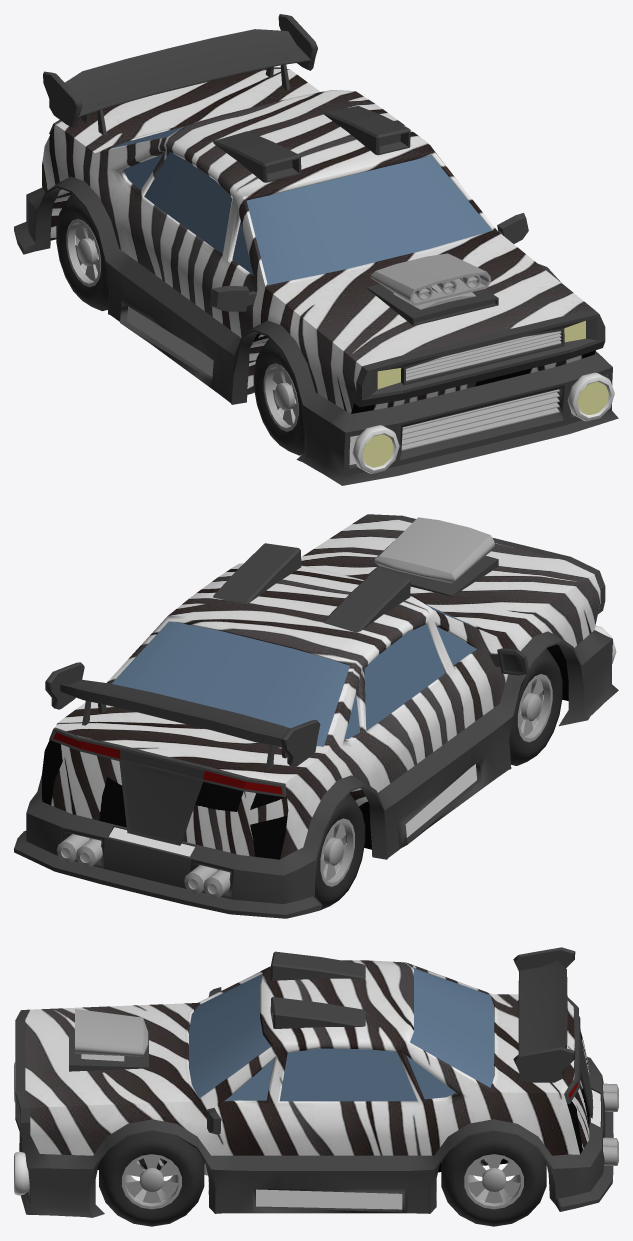
Rendered from muscle_zebra.glb.
3 renders of one model, top to bottom at view 1: azimuth 30°, elevation 25°; view 2: azimuth 150°, elevation 25°; view 3: azimuth 270°, elevation 25°, orthographic. The views are drawn at different scales.
Parts seen in each view (by area): view 1: body:PIV, sill4:PIV, frontGlass:PIV, Spoiler4:PIV, frontBlockGrid:PIV, glasseBigR:PIV, engine:PIV, front_down_grid:PIV, airtrap_r:PIV, airtrap_l:PIV, front_up_grid:PIV, tire_rf:PIV (+12 smaller); view 2: body:PIV, sill4:PIV, BackGlassGlass:PIV, Spoiler4:PIV, blockBackLights:PIV, engine:PIV, glasseBigR:PIV, airtrap_r:PIV, airtrap_l:PIV, tire_rf2:PIV, tire_rf:PIV, rim_A_rf:PIV (+10 smaller); view 3: body:PIV, sill4:PIV, BackGlassGlass:PIV, Spoiler4:PIV, glasseBigL:PIV, frontGlass:PIV, tire_lf:PIV, tire_lb:PIV, engine:PIV, sillPartL:PIV, rim_A_lf:PIV, rim_A_lb:PIV (+10 smaller).
Part boxes in pixels (x1,y1,x2,y2): body:PIV: [42, 69, 595, 413]; sill4:PIV: [14, 176, 618, 485]; frontGlass:PIV: [246, 155, 491, 285]; Spoiler4:PIV: [43, 14, 317, 135]; frontBlockGrid:PIV: [354, 309, 605, 407]; glasseBigR:PIV: [144, 152, 232, 253]; engine:PIV: [370, 253, 490, 309]; front_down_grid:PIV: [401, 389, 559, 450]; airtrap_r:PIV: [213, 131, 301, 182]; airtrap_l:PIV: [323, 106, 410, 155]; front_up_grid:PIV: [406, 331, 561, 381]; tire_rf:PIV: [56, 194, 109, 311]; body:PIV: [42, 517, 599, 859]; sill4:PIV: [14, 630, 618, 918]; BackGlassGlass:PIV: [111, 621, 349, 746]; Spoiler4:PIV: [45, 662, 320, 770]; blockBackLights:PIV: [49, 727, 286, 845]; engine:PIV: [374, 517, 494, 583]; glasseBigR:PIV: [364, 624, 444, 730]; airtrap_r:PIV: [323, 567, 410, 632]; airtrap_l:PIV: [213, 543, 301, 603]; tire_rf2:PIV: [509, 648, 562, 765]; tire_rf:PIV: [315, 793, 365, 909]; rim_A_rf:PIV: [517, 674, 552, 742]; body:PIV: [25, 960, 589, 1200]; sill4:PIV: [19, 1056, 613, 1217]; BackGlassGlass:PIV: [410, 967, 494, 1087]; Spoiler4:PIV: [513, 947, 575, 1082]; glasseBigL:PIV: [279, 1048, 417, 1101]; frontGlass:PIV: [189, 974, 270, 1098]; tire_lf:PIV: [99, 1132, 204, 1226]; tire_lb:PIV: [441, 1132, 546, 1226]; engine:PIV: [75, 1009, 148, 1061]; sillPartL:PIV: [256, 1189, 402, 1209]; rim_A_lf:PIV: [122, 1154, 181, 1209]; rim_A_lb:PIV: [464, 1154, 523, 1209].
Size of the model in its own units: 177 by 120 by 337.
Materials: 10 (1 with a texture image).
